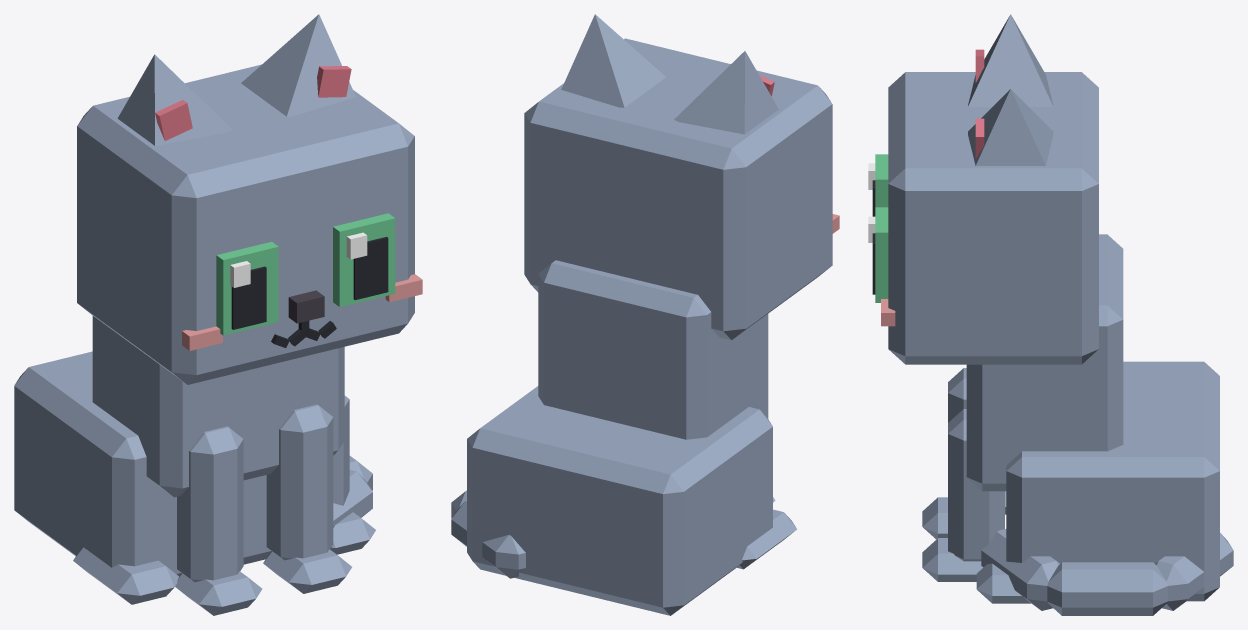
Rendered from CatCafe_Cat_Blue_Sit.glb.
3 renders of one model, left to right at view 1: azimuth 30°, elevation 25°; view 2: azimuth 150°, elevation 25°; view 3: azimuth 270°, elevation 25°, orthographic. The views are drawn at different scales.
Parts seen in each view (by area): view 1: CatCafe_Cat_Blue_Sit_Head, CatCafe_Cat_Blue_Sit_Body, CatCafe_Cat_Blue_Sit_LegF1, CatCafe_Cat_Blue_Sit_LegF2, CatCafe_Cat_Blue_Sit_EarL, CatCafe_Cat_Blue_Sit_EarR, CatCafe_Cat_Blue_Sit_Eye1, CatCafe_Cat_Blue_Sit_Eye2, CatCafe_Cat_Blue_Sit_Tail; view 2: CatCafe_Cat_Blue_Sit_Body, CatCafe_Cat_Blue_Sit_Head, CatCafe_Cat_Blue_Sit_EarL, CatCafe_Cat_Blue_Sit_EarR, CatCafe_Cat_Blue_Sit_Tail; view 3: CatCafe_Cat_Blue_Sit_Head, CatCafe_Cat_Blue_Sit_Body, CatCafe_Cat_Blue_Sit_Tail, CatCafe_Cat_Blue_Sit_LegF1, CatCafe_Cat_Blue_Sit_EarL, CatCafe_Cat_Blue_Sit_EarR, CatCafe_Cat_Blue_Sit_LegF2, CatCafe_Cat_Blue_Sit_Eye1, CatCafe_Cat_Blue_Sit_Eye2.
Boxes of the visible parts, x1,y1,x2,y2 form: CatCafe_Cat_Blue_Sit_Head: (77, 64, 422, 384); CatCafe_Cat_Blue_Sit_Body: (14, 316, 375, 604); CatCafe_Cat_Blue_Sit_LegF1: (263, 404, 351, 593); CatCafe_Cat_Blue_Sit_LegF2: (175, 426, 262, 615); CatCafe_Cat_Blue_Sit_EarL: (241, 14, 355, 116); CatCafe_Cat_Blue_Sit_EarR: (117, 54, 232, 145); CatCafe_Cat_Blue_Sit_Eye1: (333, 213, 395, 306); CatCafe_Cat_Blue_Sit_Eye2: (216, 241, 278, 335); CatCafe_Cat_Blue_Sit_Tail: (333, 456, 372, 527); CatCafe_Cat_Blue_Sit_Body: (467, 260, 796, 615); CatCafe_Cat_Blue_Sit_Head: (524, 38, 839, 340); CatCafe_Cat_Blue_Sit_EarL: (561, 14, 665, 107); CatCafe_Cat_Blue_Sit_EarR: (674, 51, 778, 134); CatCafe_Cat_Blue_Sit_Tail: (451, 490, 525, 578); CatCafe_Cat_Blue_Sit_Head: (881, 72, 1098, 364); CatCafe_Cat_Blue_Sit_Body: (966, 234, 1219, 603); CatCafe_Cat_Blue_Sit_Tail: (981, 529, 1233, 615); CatCafe_Cat_Blue_Sit_LegF1: (922, 409, 1004, 581); CatCafe_Cat_Blue_Sit_EarL: (968, 89, 1053, 165); CatCafe_Cat_Blue_Sit_EarR: (968, 14, 1053, 106); CatCafe_Cat_Blue_Sit_LegF2: (922, 368, 966, 539); CatCafe_Cat_Blue_Sit_Eye1: (868, 207, 888, 302); CatCafe_Cat_Blue_Sit_Eye2: (868, 154, 888, 216).
Bounding box in the file's own units: 1.05 × 1.85 × 1.22.
Materials: 1 (1 with a texture image).
